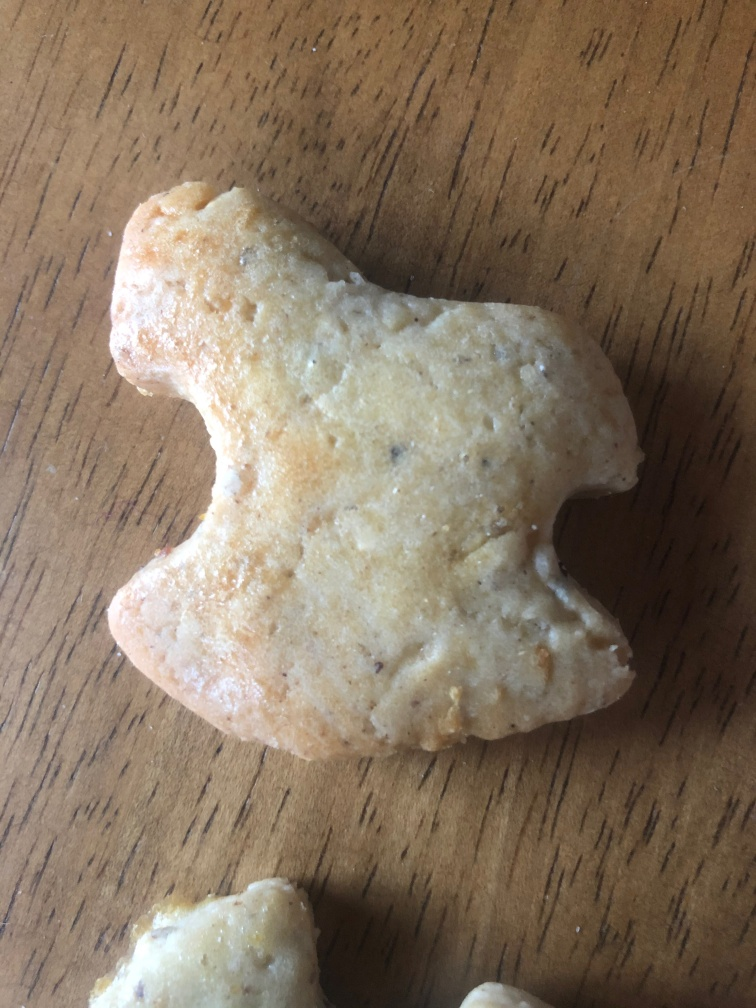lamb: (86, 173, 642, 774)
